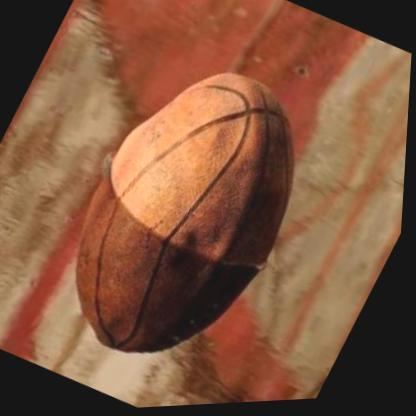basketball: (21, 31, 354, 407)
